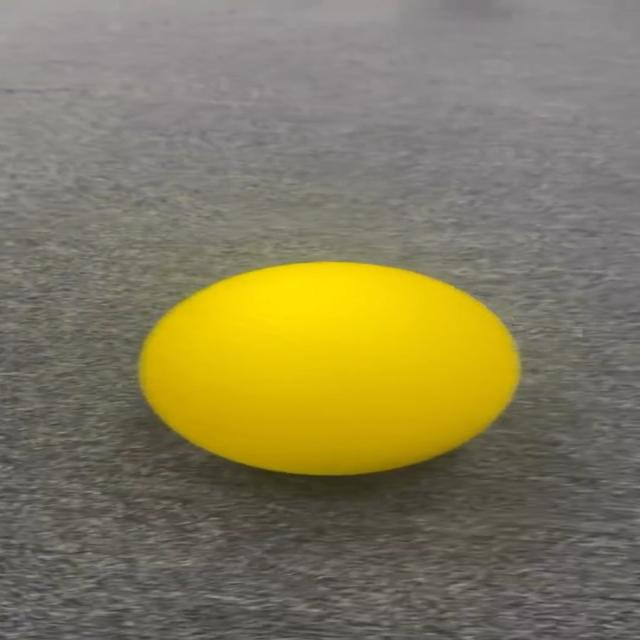Fuels: (137, 258, 516, 471)
